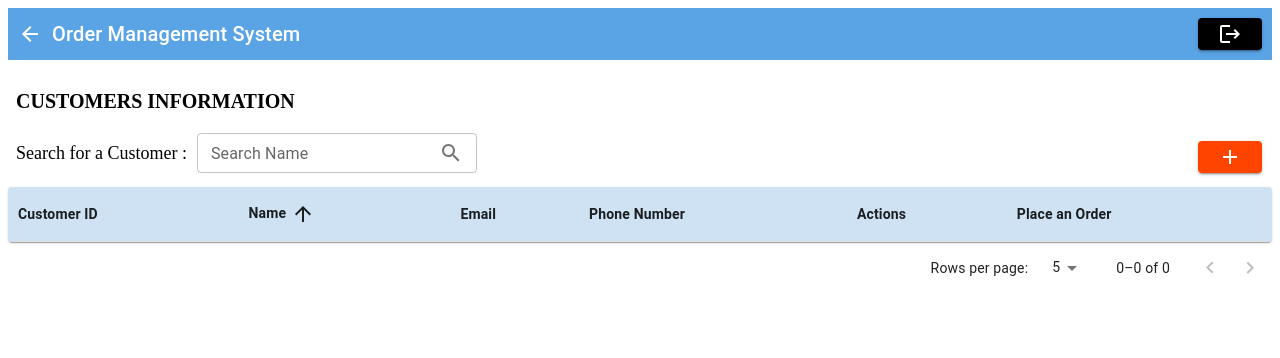
Customer Component › allows searching for customers
Type "Lalith" into the field labelled "Search Name". click: (314, 153)
box: 197,133 -> 431,173
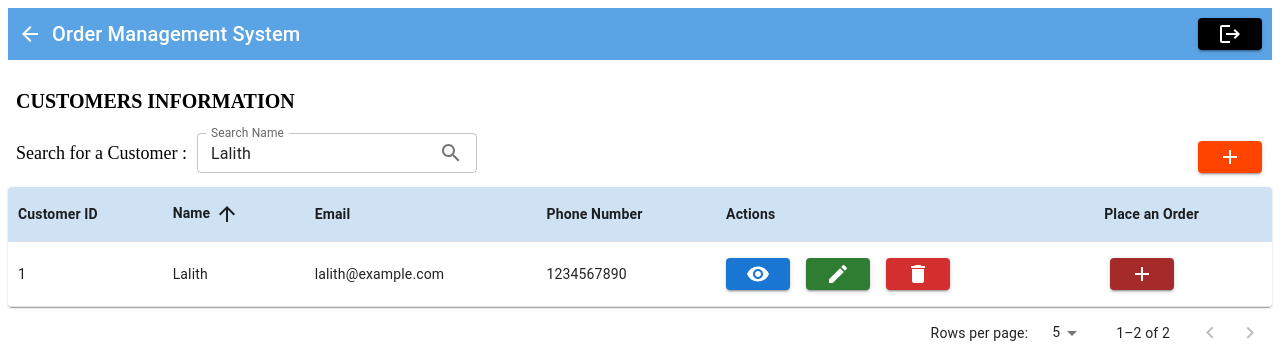
Now the text "Lalith" is shown, box 163,242 -> 305,306
